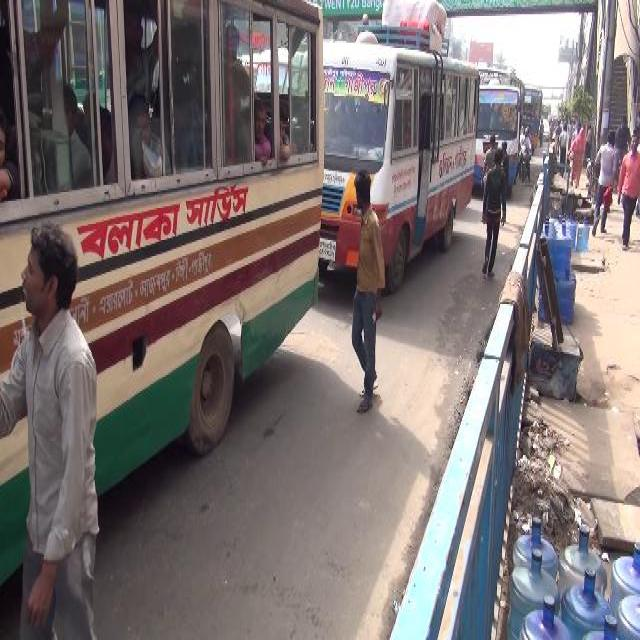10: (516, 147, 530, 180)
5: (541, 116, 549, 144)
Truck: (1, 0, 323, 583), (321, 21, 474, 286), (474, 78, 516, 210), (476, 59, 522, 122), (524, 82, 542, 153), (540, 98, 550, 122)
